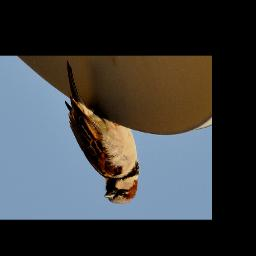Swallow: (64, 60, 141, 204)
